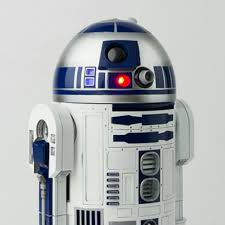r2d2: (27, 17, 194, 224)
